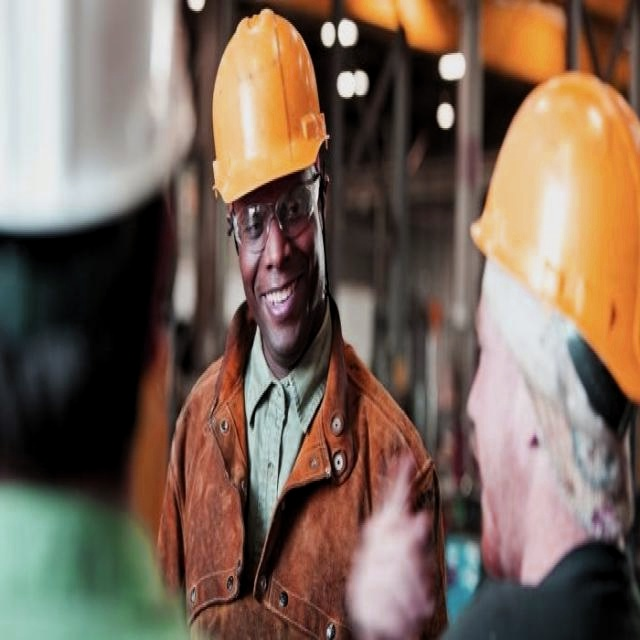Con_Casco: (471, 92, 640, 457), (212, 5, 326, 347)
